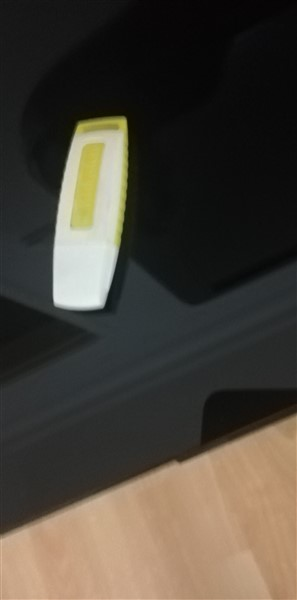flash disk: (45, 108, 129, 318)
